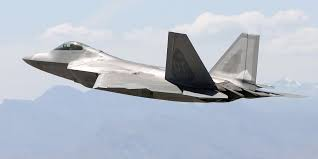fighter: (20, 29, 308, 104)
